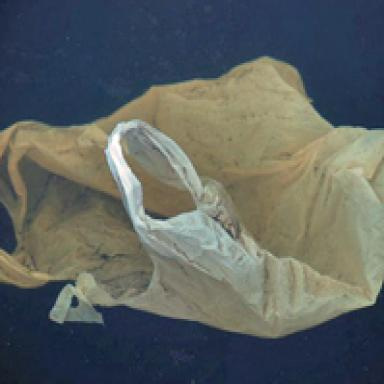plasticbag: (9, 55, 382, 331)
